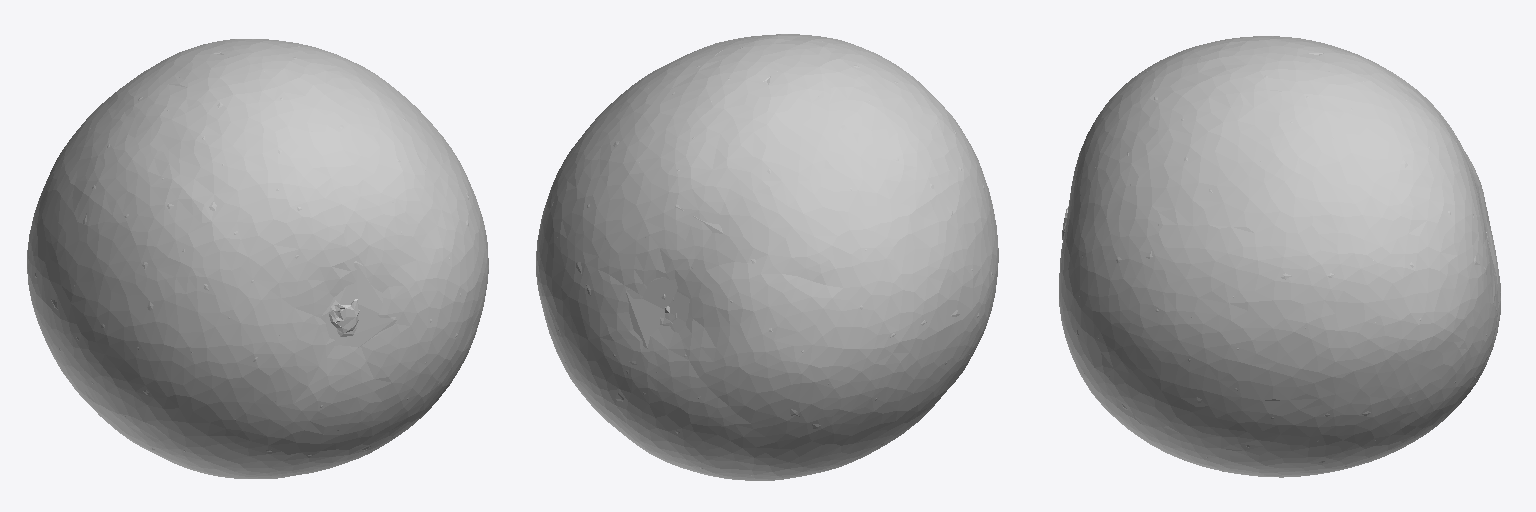
File: nearly_sphere.obj
The picture shows the model from 3 angles: view 1: azimuth 30°, elevation 25°; view 2: azimuth 150°, elevation 25°; view 3: azimuth 270°, elevation 25°; orthographic projection.
Visible parts, largest first — view 1: 3DMelon001_LQ-1K-PNG; view 2: 3DMelon001_LQ-1K-PNG; view 3: 3DMelon001_LQ-1K-PNG.
Boxes of the visible parts, <box> form: 3DMelon001_LQ-1K-PNG: <box>27,39,488,478</box>; 3DMelon001_LQ-1K-PNG: <box>536,34,998,480</box>; 3DMelon001_LQ-1K-PNG: <box>1059,36,1500,477</box>.
Bounding box in the file's own units: 0.2463 × 0.2383 × 0.2409.